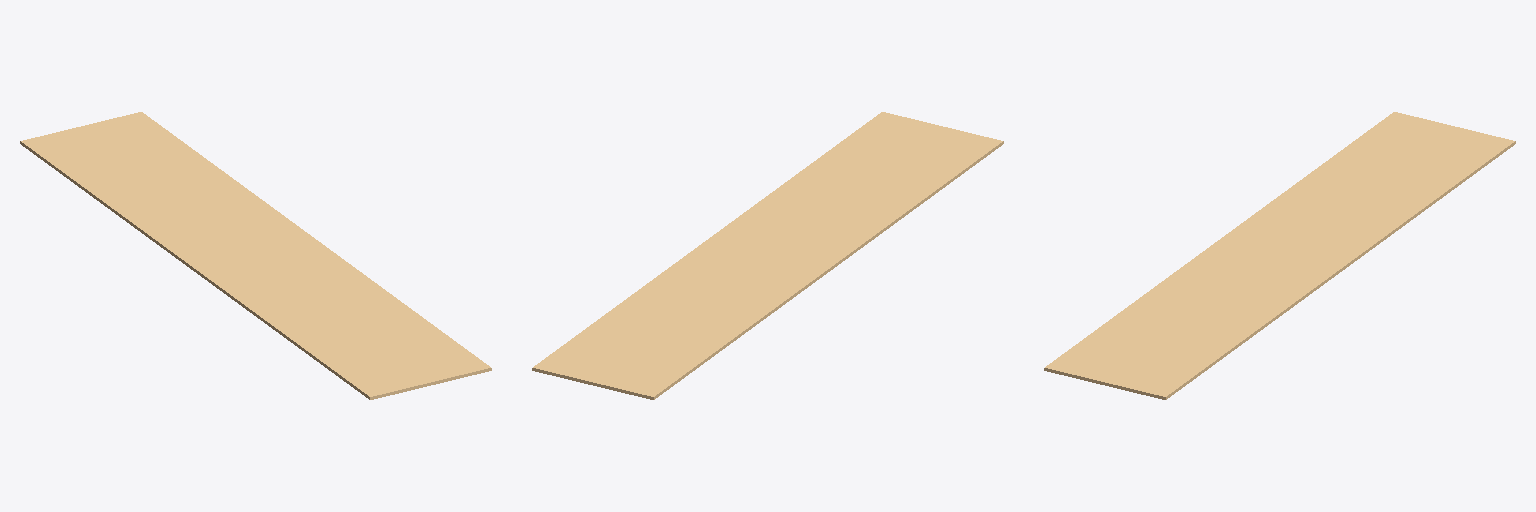
robot.urdf — box:
<?xml version="1.0" ?>
<robot name="box">
  <link name="baselink">
    <inertial>
      <origin rpy="0 0 0" xyz="0 0 0"/>
       <mass value=".0"/>
       <inertia ixx="0" ixy="0" ixz="0" iyy="0" iyz="0" izz="0"/>
    </inertial>

    <visual>
      <origin rpy="0 0 0" xyz="0.1 0 0"/>
      <geometry>
        <box size="0.2 1.0 0.005"/>
      </geometry>
      <material name="panda_white">
        <color rgba="1. 0.87 0.68 1."/>
      </material>
    </visual>

    <!-- <collision concave="yes">
      <origin rpy="0 0 0" xyz="0 0 0"/>
      <geometry>
        <box size="0.2 1.0 0.01"/>
      </geometry>
    </collision> -->

  </link>
</robot>

--- Facts derived from the render (not from the file) ---
Views: 3 orthographic renders of the robot side by side, from view 1: azimuth 30°, elevation 25°; view 2: azimuth 150°, elevation 25°; view 3: azimuth 330°, elevation 25°.
Robot: box — 1 links, 0 joints (none); root link baselink; default pose: every joint at zero.
Visible links, largest first — view 1: baselink; view 2: baselink; view 3: baselink.
Boxes of the visible links, bbox=[...] form: baselink: bbox=[20, 112, 491, 399]; baselink: bbox=[532, 112, 1003, 399]; baselink: bbox=[1044, 112, 1515, 399].
Bounding box of the posed robot: 0.2 × 1 × 0.005 m (x, y, z).
Geometry: primitives only (box / cylinder / sphere), no mesh files.